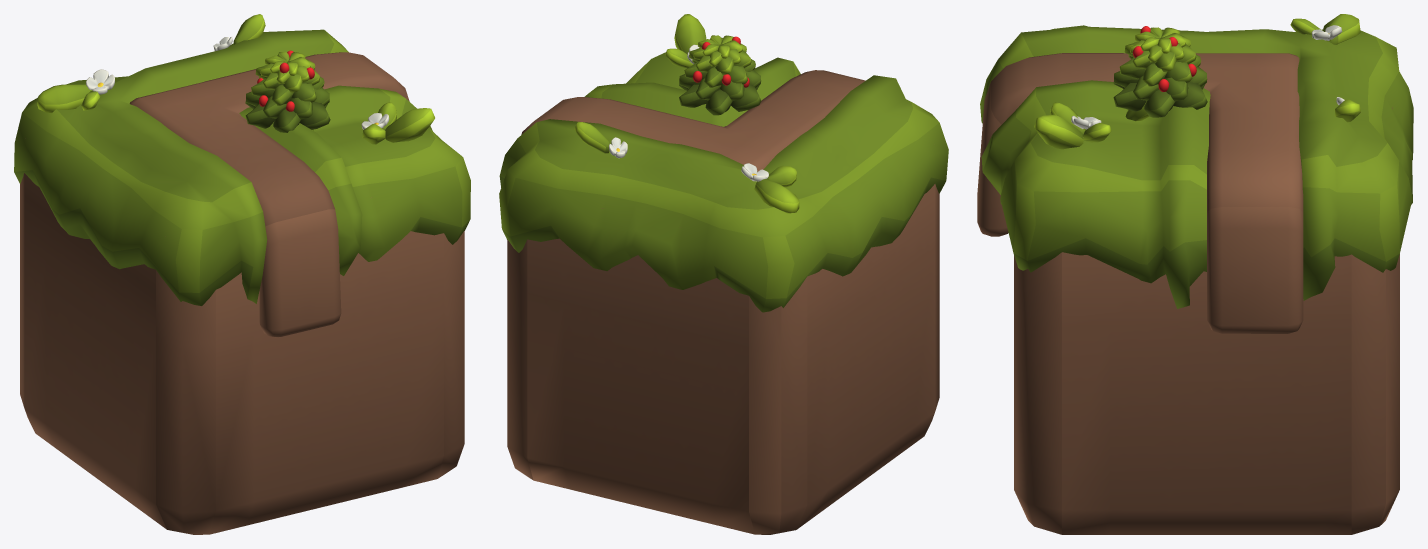
The model's file is Spring11.fbx.
3 renders of one model, left to right at view 1: azimuth 30°, elevation 25°; view 2: azimuth 150°, elevation 25°; view 3: azimuth 270°, elevation 25°, orthographic. The views are drawn at different scales.
Parts seen in each view (by area): view 1: Spring11, Spring_Cube11.001, Road11, Spring_Cube_11.005, Spring_Cube_11.004; view 2: Spring11, Spring_Cube11.001, Road11, Spring_Cube_11.005, Spring_Cube_11.004; view 3: Spring11, Spring_Cube11.001, Road11, Spring_Cube_11.005, Spring_Cube_11.004.
Boxes of the visible parts, x1,y1,x2,y2 form: Spring11: (20,138,464,534); Spring_Cube11.001: (14,29,470,305); Road11: (129,52,409,337); Spring_Cube_11.005: (245,50,330,132); Spring_Cube_11.004: (37,14,434,144); Spring11: (507,184,939,534); Spring_Cube11.001: (499,52,948,312); Road11: (521,70,865,171); Spring_Cube_11.005: (679,35,761,115); Spring_Cube_11.004: (574,14,799,213); Spring11: (1014,107,1399,534); Spring_Cube11.001: (980,25,1413,308); Road11: (977,53,1303,333); Spring_Cube_11.005: (1113,26,1207,117); Spring_Cube_11.004: (1034,14,1360,149).
Bounding box in the file's own units: 113 × 130 × 113.
